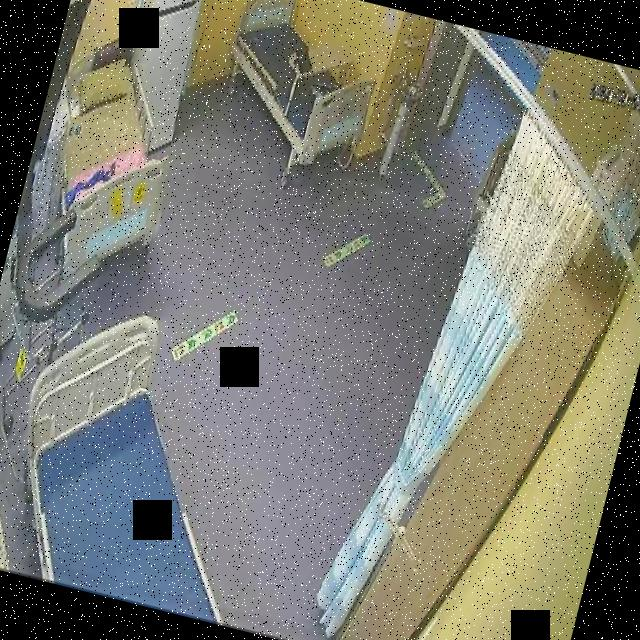bed: (0, 293, 288, 622), (21, 29, 202, 282), (207, 0, 393, 178)
walker: (0, 195, 116, 487)
